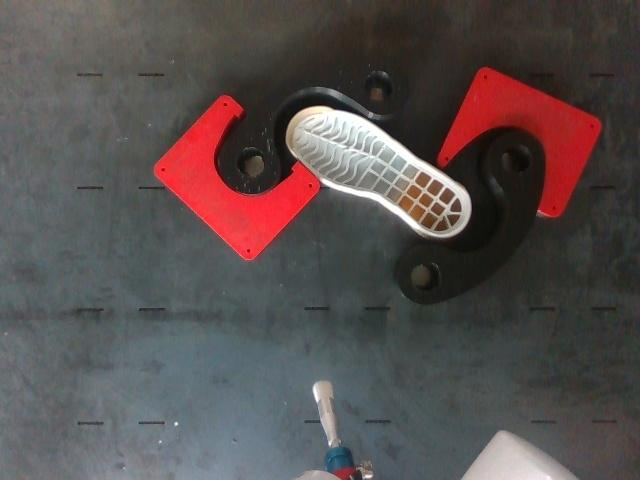shoes: (287, 108, 467, 235)
